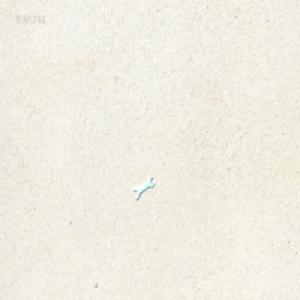Wrench: (133, 175, 155, 201)
